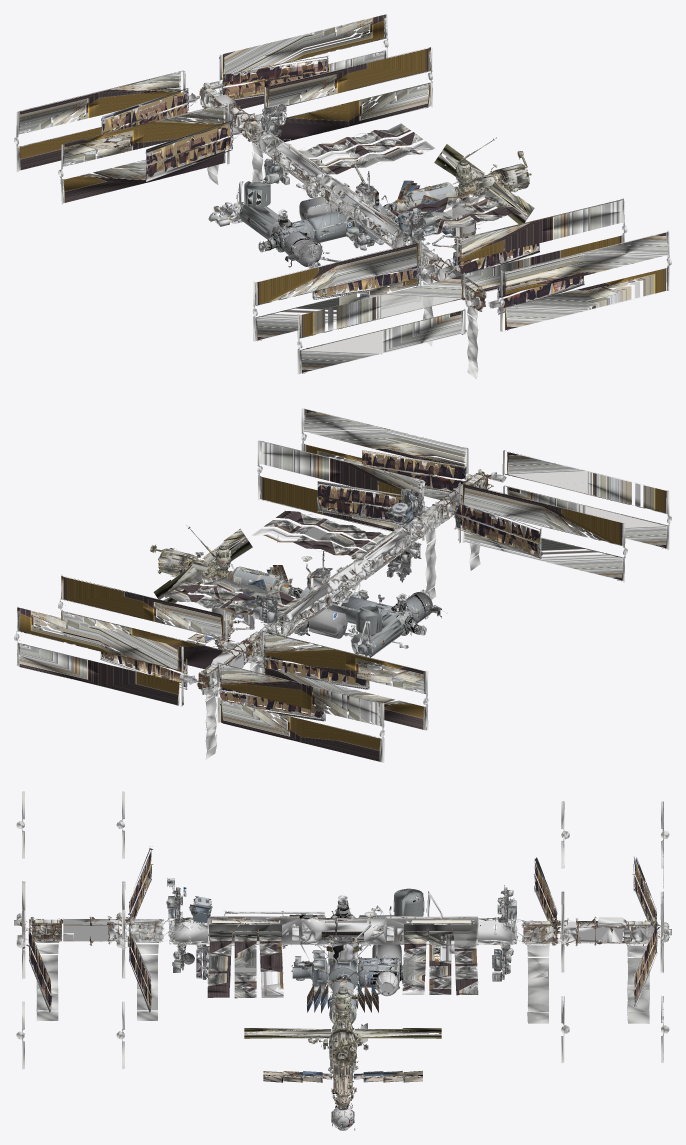
The model's file is iss.glb.
The picture shows the model from 3 angles, top to bottom: view 1: azimuth 30°, elevation 25°; view 2: azimuth 150°, elevation 25°; view 3: azimuth 270°, elevation 25°; orthographic projection. The views are drawn at different scales.
Visible parts, largest first — view 1: Payload_MISSE_FF, IROSA_Deployed_P44A, Airlock, MLM_Details_Camera, USLab, MLM, Zarya_FGB, JEM_PM, Columbus, JEM_PS, PMM, Node2; view 2: Payload_MISSE_FF, IROSA_Deployed_P44A, Airlock, MLM_Details_Camera, MLM, JEM_PM, Zarya_FGB, PMM, JEM_PS, USLab, Columbus; view 3: Payload_MISSE_FF, Airlock, IROSA_Deployed_P44A, MLM_Details_Camera, MLM, Node2, JEM_PS, Zarya_FGB, Node1.
Boxes of the visible parts, x1=… form: Payload_MISSE_FF: x1=14, y1=14, x2=671, y2=378; IROSA_Deployed_P44A: x1=101, y1=55, x2=584, y2=314; Airlock: x1=187, y1=81, x2=531, y2=308; MLM_Details_Camera: x1=397, y1=144, x2=534, y2=253; USLab: x1=307, y1=211, x2=358, y2=243; MLM: x1=431, y1=196, x2=507, y2=266; Zarya_FGB: x1=393, y1=182, x2=460, y2=210; JEM_PM: x1=239, y1=204, x2=279, y2=239; Columbus: x1=283, y1=231, x2=322, y2=266; JEM_PS: x1=244, y1=179, x2=270, y2=207; PMM: x1=299, y1=196, x2=338, y2=219; Node2: x1=271, y1=207, x2=338, y2=252; Payload_MISSE_FF: x1=14, y1=408, x2=671, y2=762; IROSA_Deployed_P44A: x1=100, y1=450, x2=541, y2=721; Airlock: x1=179, y1=472, x2=506, y2=695; MLM_Details_Camera: x1=150, y1=528, x2=287, y2=638; MLM: x1=186, y1=585, x2=255, y2=650; JEM_PM: x1=351, y1=614, x2=402, y2=657; Zarya_FGB: x1=226, y1=566, x2=293, y2=596; PMM: x1=309, y1=609, x2=347, y2=638; JEM_PS: x1=356, y1=606, x2=382, y2=634; USLab: x1=327, y1=596, x2=377, y2=624; Columbus: x1=406, y1=592, x2=432, y2=623; Payload_MISSE_FF: x1=16, y1=791, x2=669, y2=1069; Airlock: x1=14, y1=885, x2=671, y2=1050; IROSA_Deployed_P44A: x1=25, y1=846, x2=660, y2=1012; MLM_Details_Camera: x1=244, y1=983, x2=441, y2=1107; MLM: x1=263, y1=1023, x2=422, y2=1109; Node2: x1=330, y1=914, x2=402, y2=987; JEM_PS: x1=393, y1=888, x2=424, y2=916; Zarya_FGB: x1=306, y1=972, x2=378, y2=1023; Node1: x1=328, y1=960, x2=357, y2=989.
Size of the model in its own units: 7.46 by 3.11 by 10.08.
Materials: 41 (39 with a texture image).
